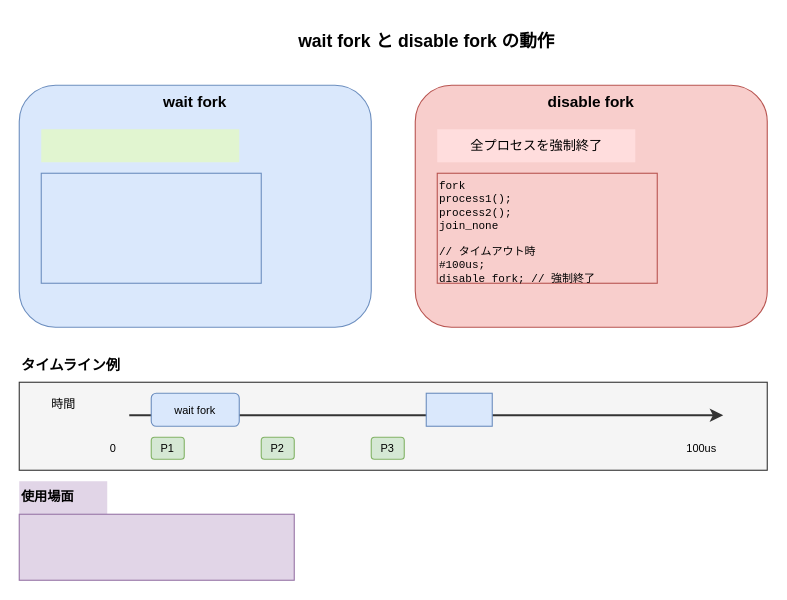
This 787x600 diagram has some shape labels left out. The centre of each missing label's shape, as x and y in pixels:
"fork process1(); process2(); process3(); join_none wait fork; // 全プロセス完了まで待機" belongs at point 150,227.
"• wait fork: テスト終了待機、 全プロセスの同期 • disable fork: タイムアウト処理、 エラー時の強制終了" belongs at point 156,546.
"全プロセスの完了を待機" belongs at point 140,145.
"全完了 で進行" belongs at point 458,409.
